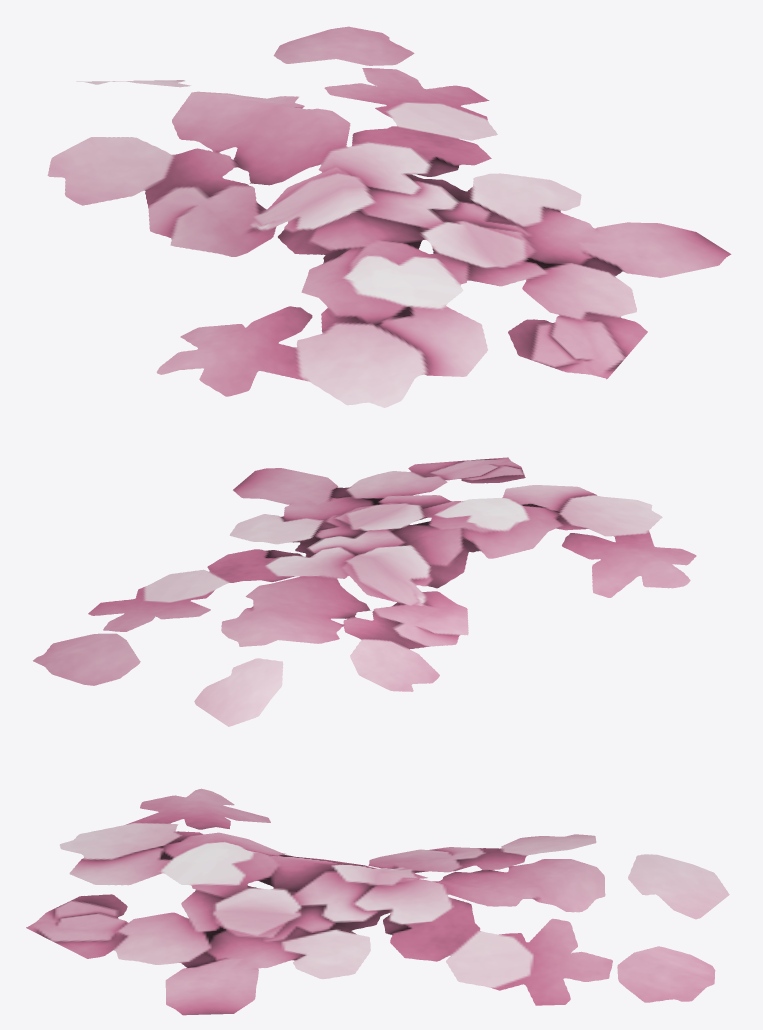
The model's file is SM_Env_CherryBlossom_Small_05.fbx.
3 renders of one model, top to bottom at view 1: azimuth 30°, elevation 25°; view 2: azimuth 150°, elevation 25°; view 3: azimuth 270°, elevation 25°, orthographic. The views are drawn at different scales.
Visible parts, largest first — view 1: SM_Env_CherryBlossom_Small_05; view 2: SM_Env_CherryBlossom_Small_05; view 3: SM_Env_CherryBlossom_Small_05.
Part boxes in pixels (left/top/right/bottom): SM_Env_CherryBlossom_Small_05: left=47, top=26, right=731, bottom=407; SM_Env_CherryBlossom_Small_05: left=33, top=457, right=696, bottom=726; SM_Env_CherryBlossom_Small_05: left=26, top=788, right=729, bottom=1015.
Bounding box in the file's own units: 63.92 × 4.34 × 80.74.
